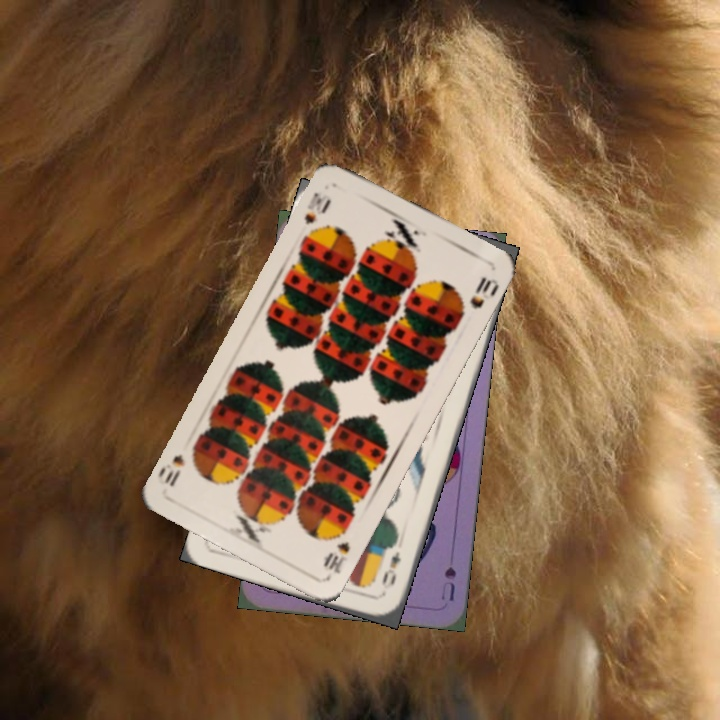EO: (377, 547, 403, 588)
S10: (300, 187, 334, 228), (319, 537, 353, 576)
SU: (437, 562, 459, 604)
